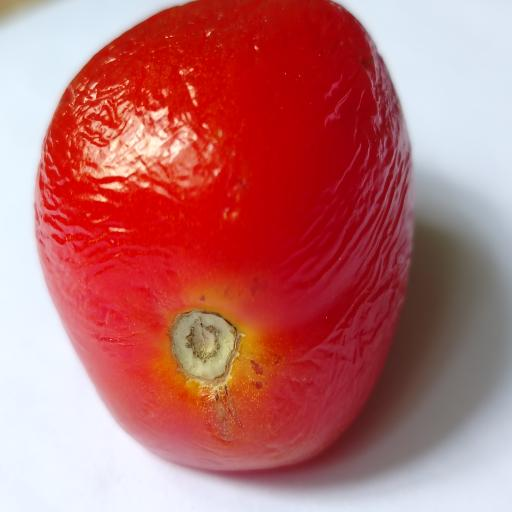spoiled: (35, 0, 413, 469)
